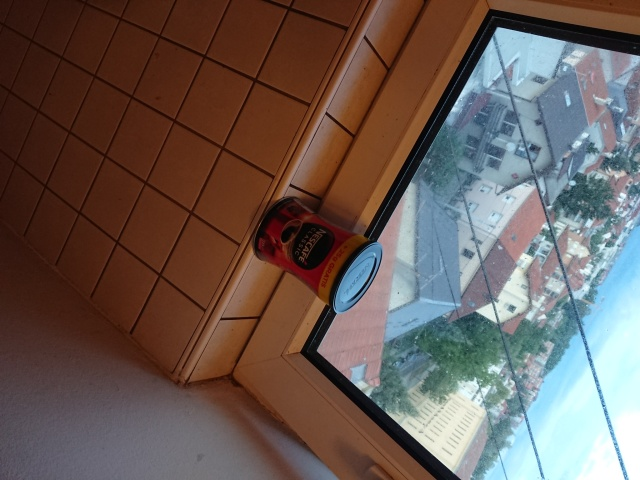Nescafe Classic 225g: (248, 193, 386, 317)
